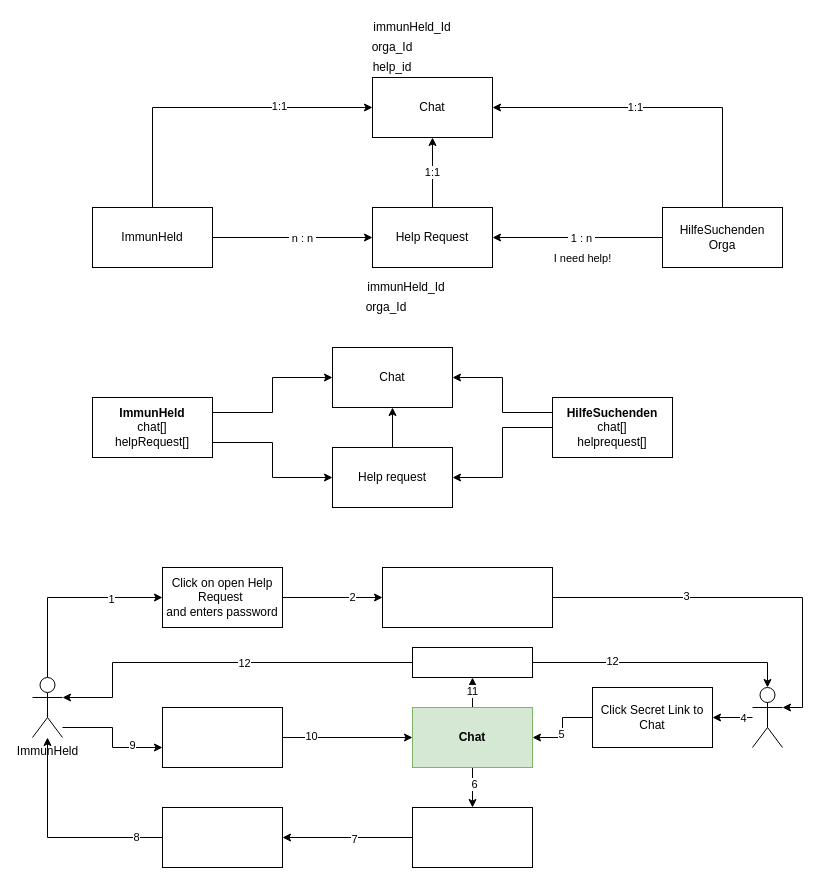
Some shapes in this 828 by 885 pixel diagram are drawn without their labels. Here are the shapes that lost their labels. From the top down, the centre of each, then its label:
the point at 467,597: Email To Hilfe Suchenden link to secret chat
the point at 472,662: inform on change in chat
the point at 222,737: Click on secret link needs authoriation
the point at 767,717: HilfeSuchender
the point at 222,837: Inform via email that HS is available link to secret chat
the point at 472,837: response then link to secret chat
